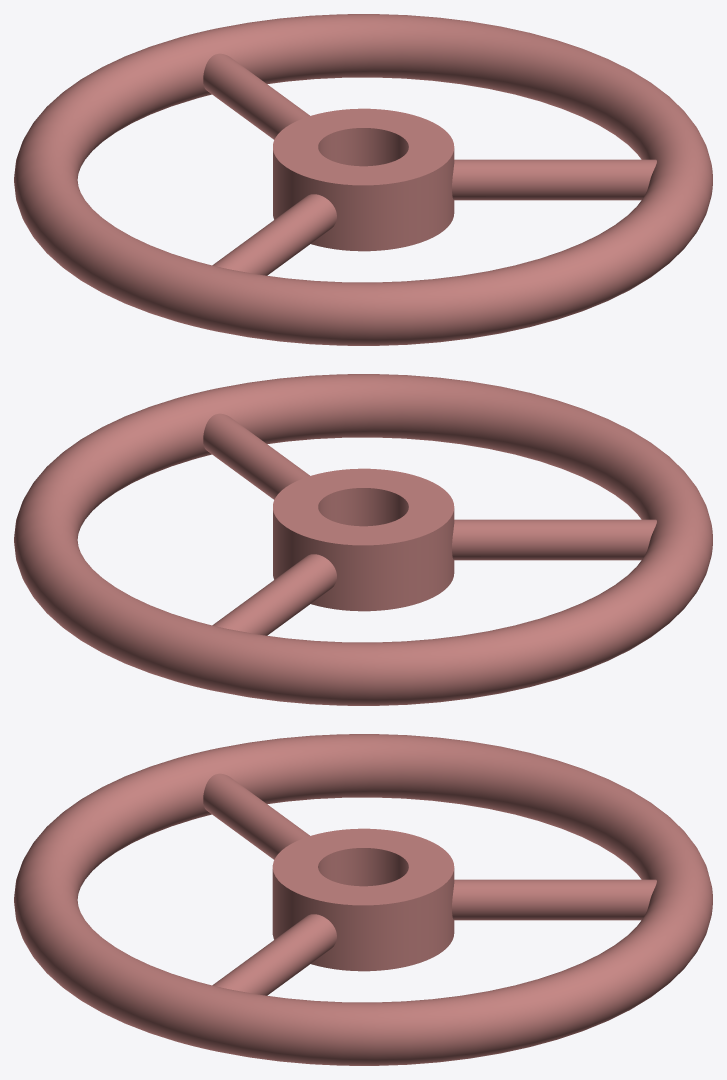
Rendered from step_24.glb.
3 renders of one model, top to bottom at view 1: azimuth 30°, elevation 25°; view 2: azimuth 150°, elevation 25°; view 3: azimuth 270°, elevation 25°, orthographic.
Parts seen in each view (by area): view 1: part__4" needle valve handwheel; view 2: part__4" needle valve handwheel; view 3: part__4" needle valve handwheel.
Part boxes in pixels (x1,y1,x2,y2): part__4" needle valve handwheel: [14, 14, 712, 345]; part__4" needle valve handwheel: [14, 374, 712, 705]; part__4" needle valve handwheel: [14, 734, 712, 1065].
Bounding box in the file's own units: 87.94 × 9.14 × 88.
